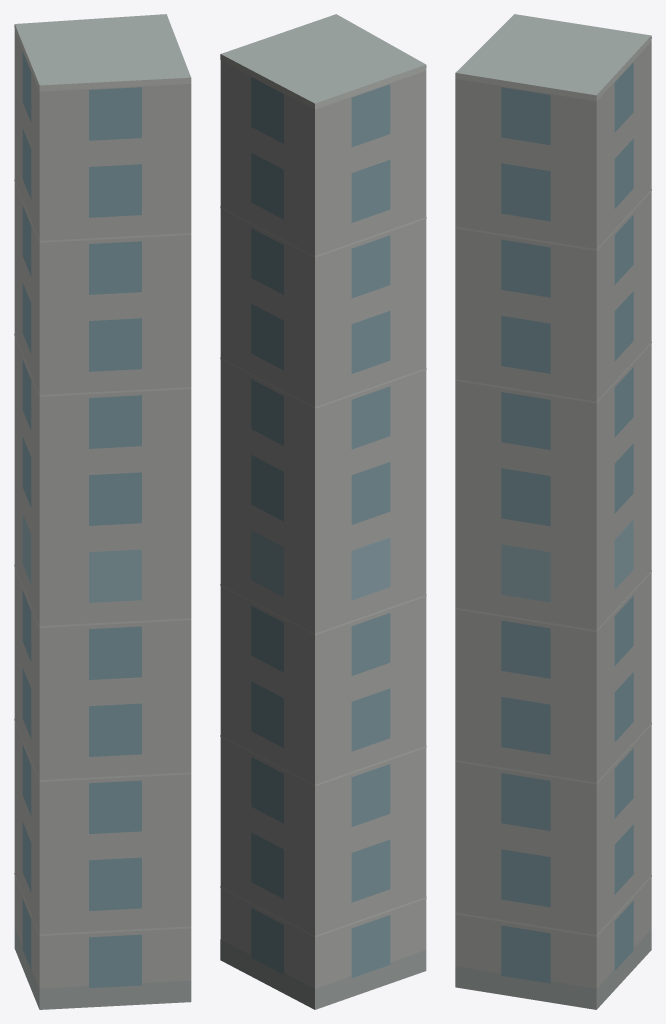
File: survey-upis-32962030.glb
3 views of the same model, side by side, from view 1: azimuth 30°, elevation 25°; view 2: azimuth 150°, elevation 25°; view 3: azimuth 270°, elevation 25° (orthographic). The views are drawn at different scales.
Visible parts, largest first — view 1: survey-upis-32962030.tmp; view 2: survey-upis-32962030.tmp; view 3: survey-upis-32962030.tmp.
Boxes of the visible parts, box(x1,y1,x2,y2) form: survey-upis-32962030.tmp: box(14, 14, 191, 1009); survey-upis-32962030.tmp: box(220, 14, 426, 1009); survey-upis-32962030.tmp: box(455, 14, 651, 1009).
Size of the model in its own units: 7.01 by 36.6 by 7.14.
